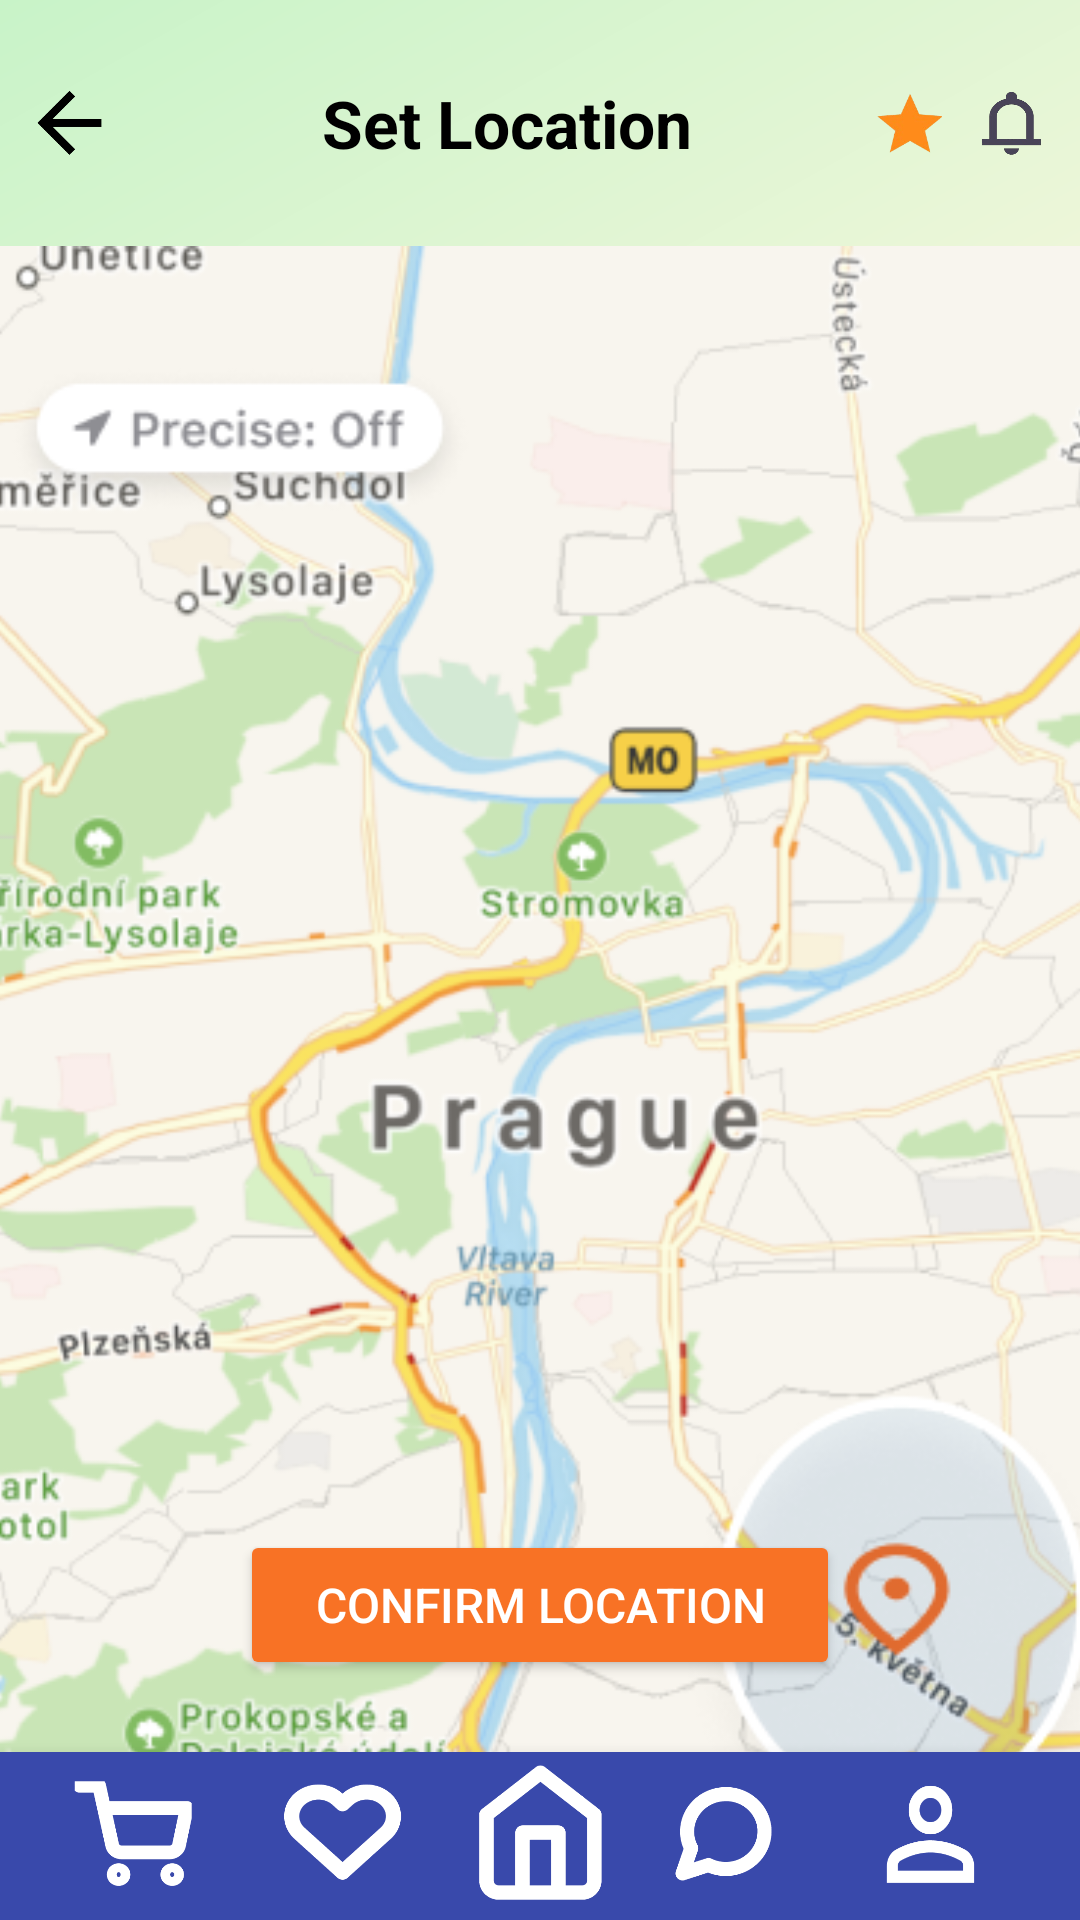

Screen size 1080*1920. Icon name, then its center in pixels as [x,y]:
back arrow: [70,123]
bell: [1011,123]
menu cart: [133,1833]
menu home: [540,1832]
menu profile: [930,1834]
menu wishlist: [342,1832]
star: [909,123]
